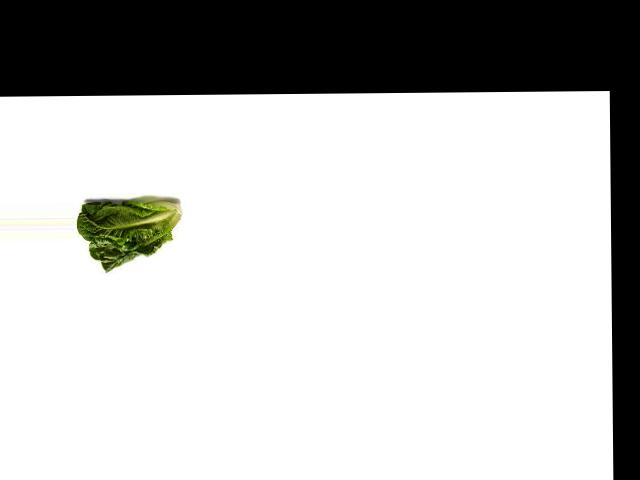lettuce: (76, 183, 186, 272)
